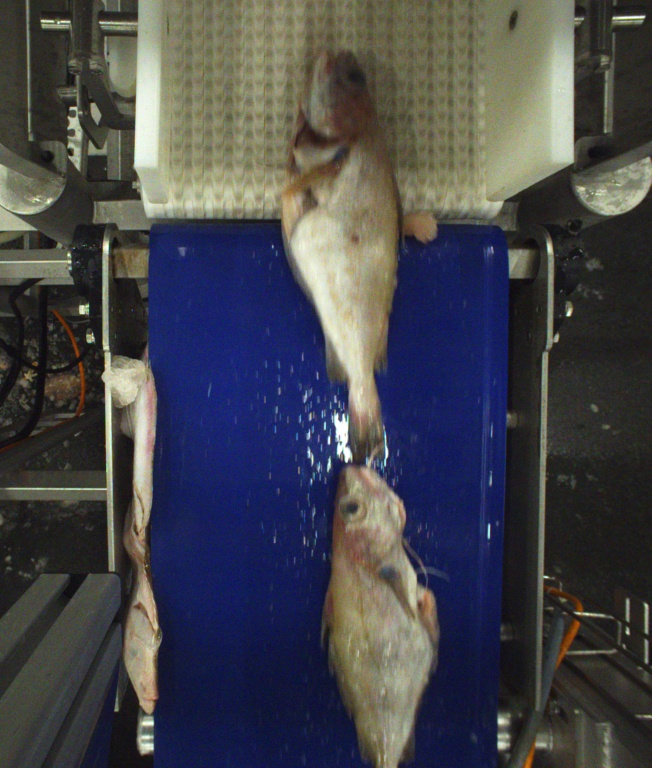BIB: (327, 461, 438, 768)
